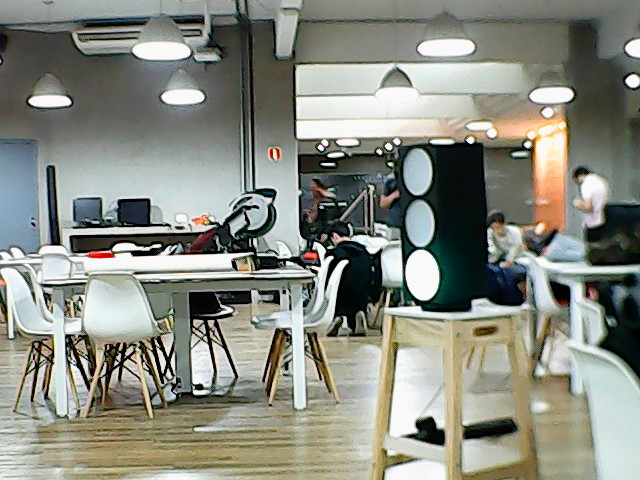verde: (388, 136, 493, 314)
